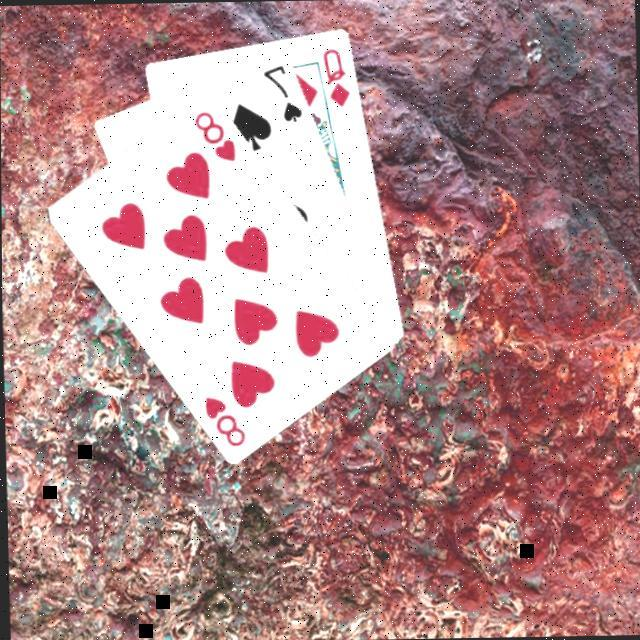7S: (261, 58, 307, 124)
8H: (192, 104, 240, 164), (202, 391, 249, 448)
QD: (321, 43, 355, 109)
